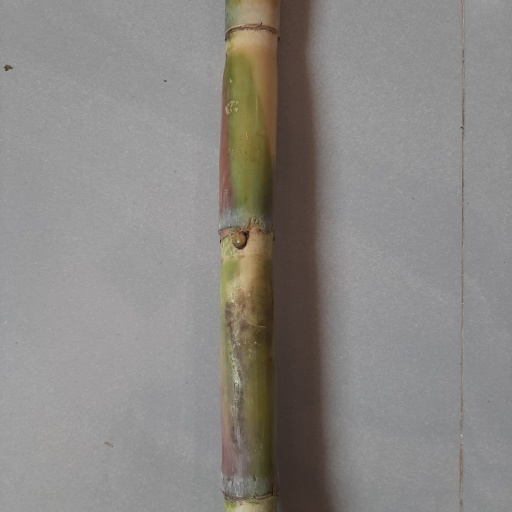Bud: (230, 231, 248, 251)
